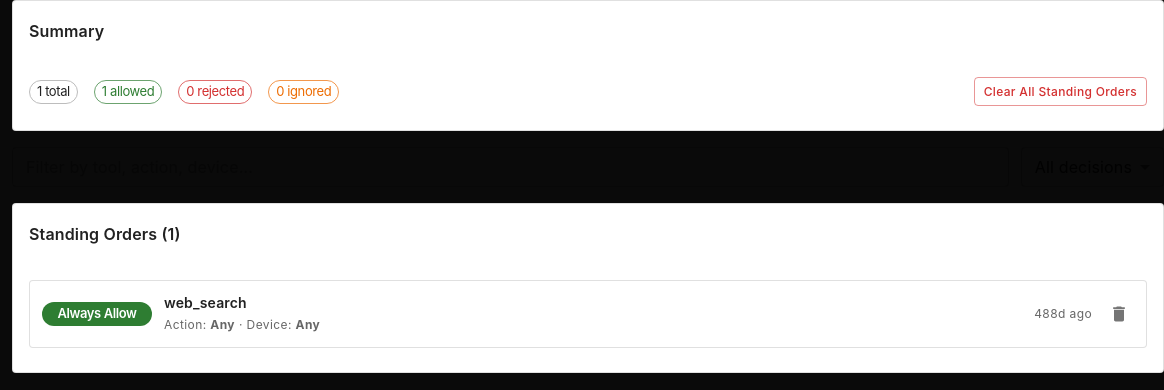
StandingOrdersConfig — edit decision › clicking decision chip enters edit mode with Save/Cancel
Expected: the text "Always Allow" is shown, [57,305,137,321]
Click the decision chip
Click the button "Always Allow".
click(97, 314)  # box [42,302,152,326]
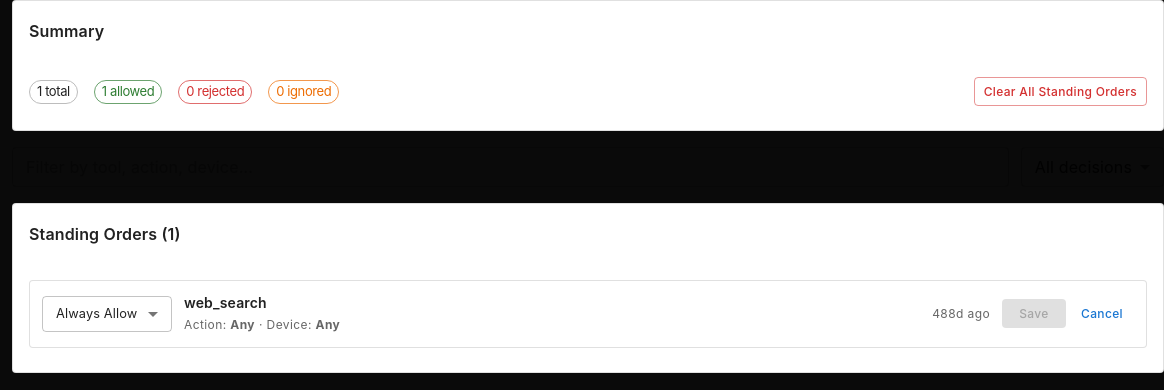
Expected: the button "Save" is shown, [1002,300,1066,328]
Expected: the button "Cancel" is shown, [1070,300,1134,328]
